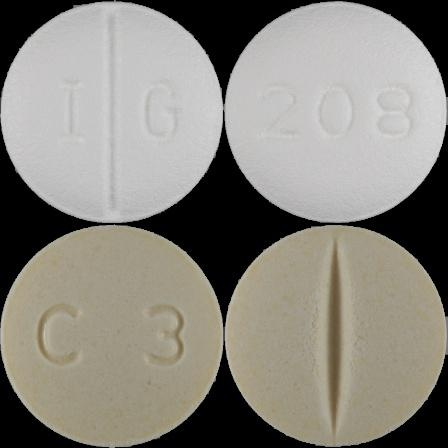70786-0208: (0, 0, 224, 224)
